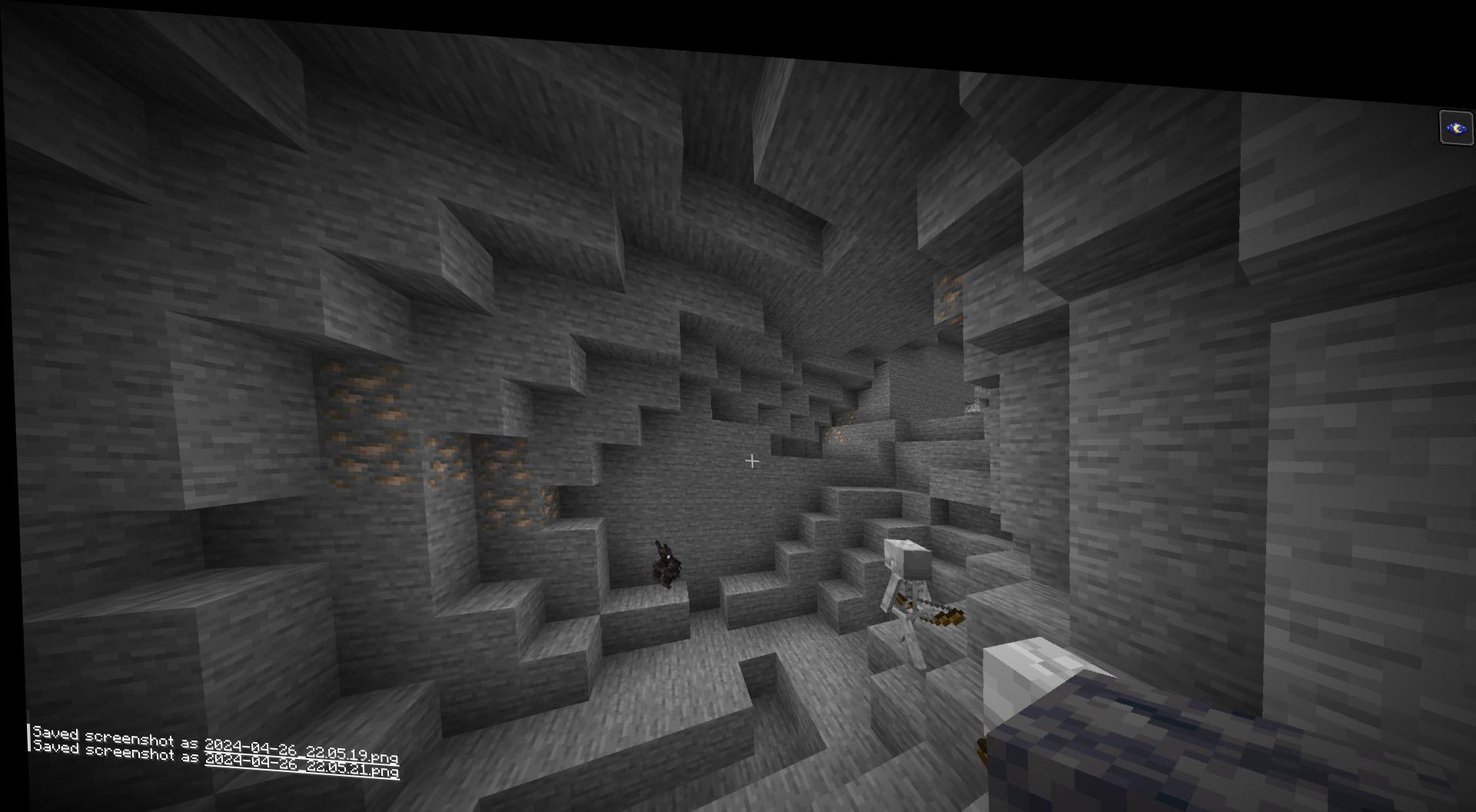iron ore: (317, 413, 413, 492), (317, 350, 412, 417), (463, 473, 533, 532), (411, 424, 468, 485), (926, 243, 969, 316), (462, 423, 519, 477), (814, 399, 863, 436), (524, 472, 557, 524)
